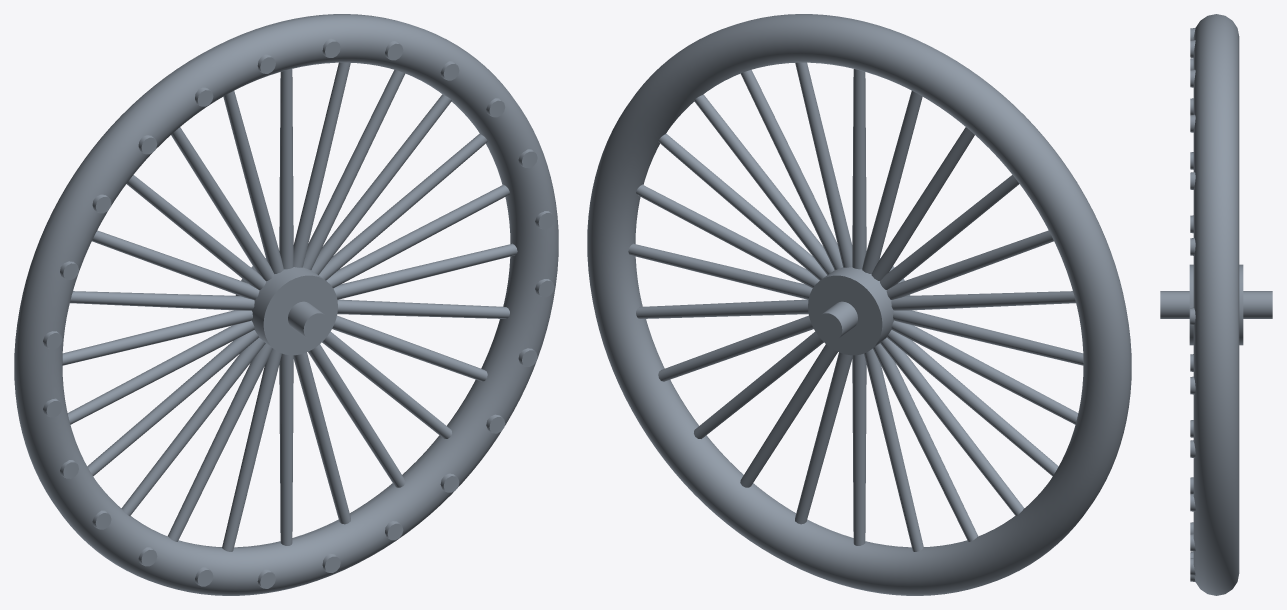
File: spoked-wheel.glb
3 renders of one model, left to right at view 1: azimuth 30°, elevation 25°; view 2: azimuth 150°, elevation 25°; view 3: azimuth 270°, elevation 25°, orthographic. The views are drawn at different scales.
Visible parts, largest first — view 1: wheel; view 2: wheel; view 3: wheel.
Boxes of the visible parts, x1,y1,x2,y2 form: wheel: (14,14,558,595); wheel: (587,14,1131,595); wheel: (1160,14,1272,595).
Size of the model in its own units: 2.17 by 2.17 by 0.42.
